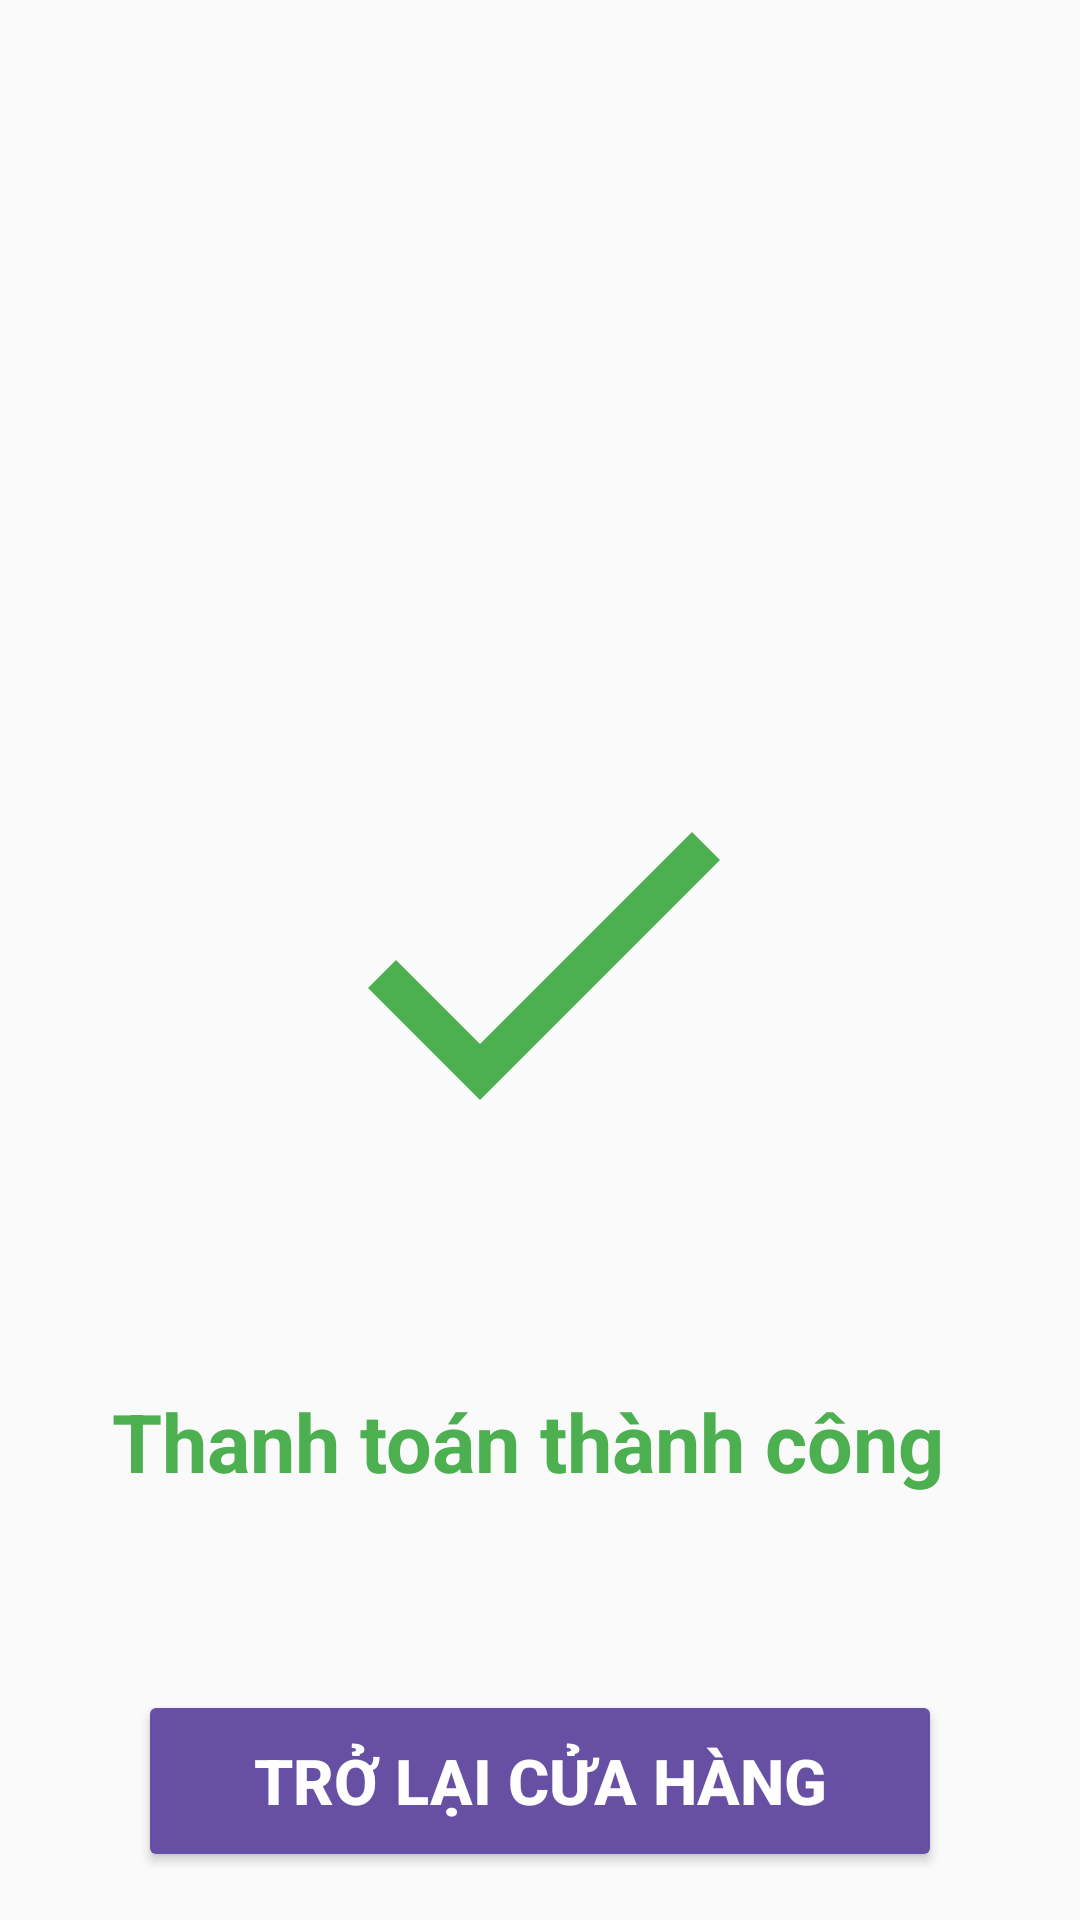

Where to tap for icons on this 1080*1920 app screen, as (x=x, y=y):
tick: (x=544, y=966)
